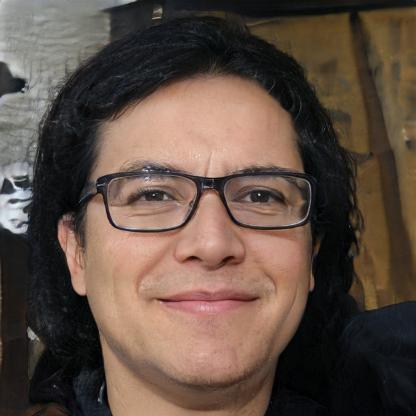glasses: (96, 166, 316, 234)
